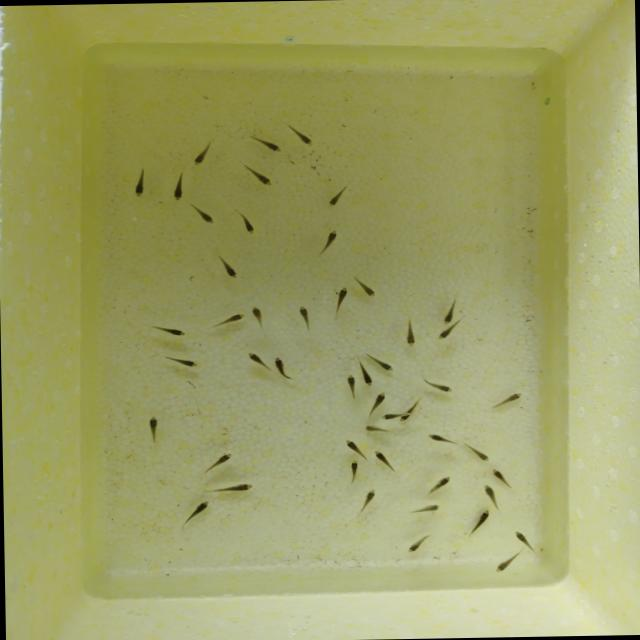fingerling: (179, 498, 216, 522), (492, 387, 530, 408), (488, 554, 523, 576), (214, 482, 254, 498), (172, 352, 204, 372), (399, 533, 428, 555), (142, 412, 162, 442), (428, 474, 460, 492), (218, 308, 244, 330), (292, 305, 316, 327), (205, 452, 236, 469), (238, 215, 260, 238), (166, 180, 188, 203), (331, 284, 350, 310), (252, 168, 275, 189), (369, 389, 393, 409), (370, 450, 396, 468), (255, 138, 284, 154), (358, 281, 380, 302), (321, 227, 340, 250), (508, 528, 532, 546), (130, 177, 148, 200), (222, 260, 239, 284), (472, 510, 492, 530), (472, 446, 492, 466), (160, 325, 190, 338), (241, 349, 265, 365), (296, 127, 312, 151), (197, 208, 216, 228), (479, 484, 499, 502), (488, 467, 508, 485), (360, 487, 377, 508), (345, 458, 362, 479), (359, 366, 374, 389), (342, 437, 362, 454), (429, 381, 455, 394), (272, 354, 287, 376), (249, 304, 264, 326), (416, 503, 448, 513), (324, 192, 343, 208), (422, 432, 452, 442), (376, 410, 400, 422), (190, 149, 208, 165), (375, 358, 395, 372), (344, 373, 358, 393), (404, 326, 416, 349), (394, 411, 415, 424), (436, 326, 454, 341), (442, 308, 456, 326), (360, 424, 386, 432)
